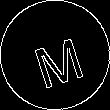M_N: (25, 24, 85, 86)
